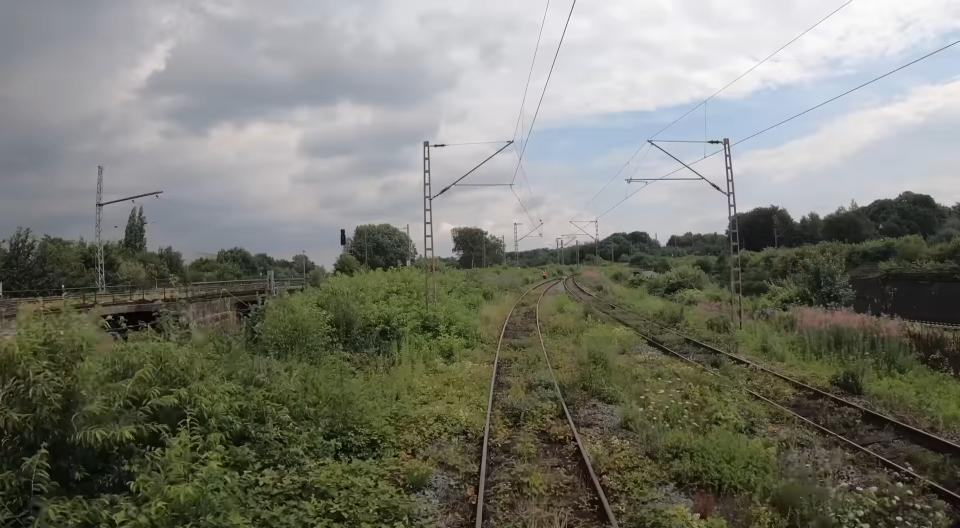Plant: (540, 288, 952, 528), (570, 282, 960, 494), (579, 277, 960, 442), (252, 296, 518, 528), (484, 296, 608, 528)
